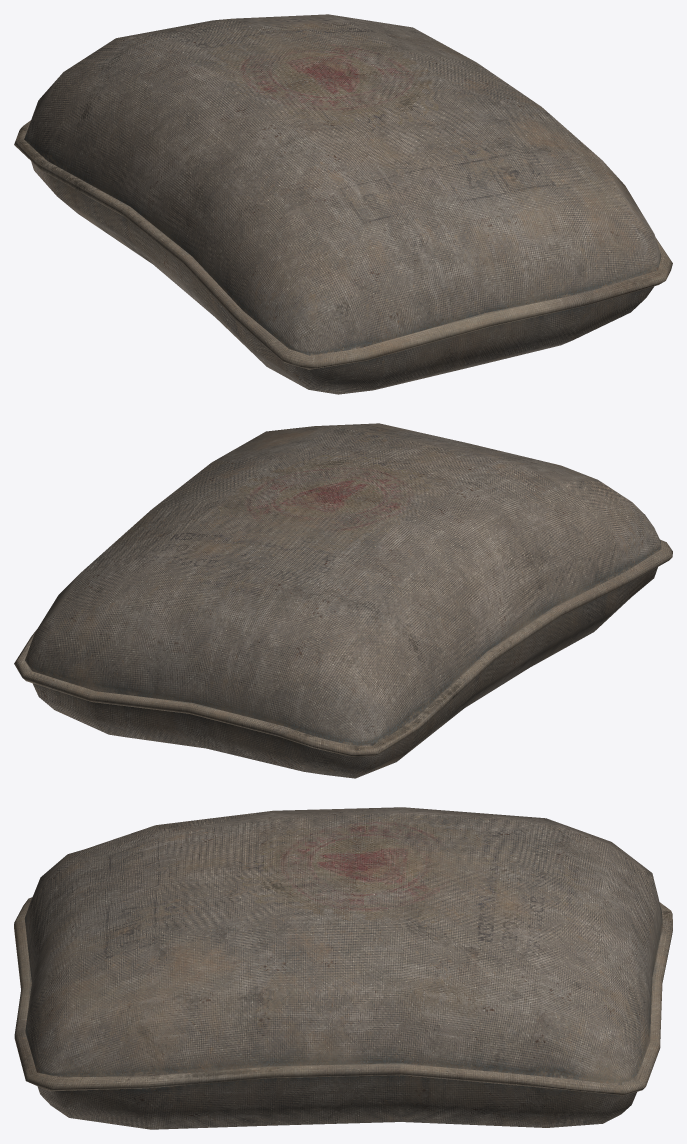
The model's file is SM_bag_01.fbx.
3 views of the same model, one above another, from view 1: azimuth 30°, elevation 25°; view 2: azimuth 150°, elevation 25°; view 3: azimuth 270°, elevation 25° (orthographic). The views are drawn at different scales.
Visible parts, largest first — view 1: SM_bag_01_LOD0; view 2: SM_bag_01_LOD0; view 3: SM_bag_01_LOD0.
Part boxes in pixels (box(x1,y1,x2,y2)): SM_bag_01_LOD0: box(14, 14, 672, 394); SM_bag_01_LOD0: box(14, 423, 672, 778); SM_bag_01_LOD0: box(14, 807, 672, 1129).
Size of the model in its own units: 96.33 by 131 by 47.45.
1 material, 1 textured.
